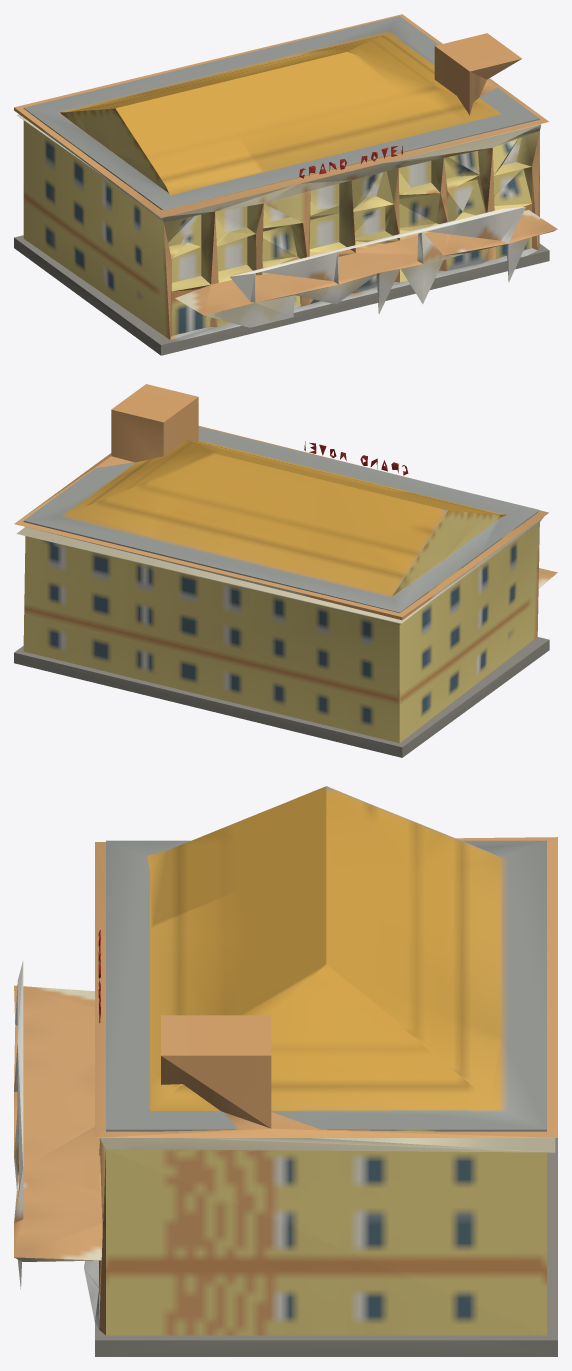
The model's file is khach_san_grand.far.glb.
3 renders of one model, top to bottom at view 1: azimuth 30°, elevation 25°; view 2: azimuth 150°, elevation 25°; view 3: azimuth 270°, elevation 25°, orthographic. The views are drawn at different scales.
Parts seen in each view (by area): view 1: khach_san_grand; view 2: khach_san_grand; view 3: khach_san_grand.
Part boxes in pixels (x1,y1,x2,y2): khach_san_grand: (14,14,557,355); khach_san_grand: (14,384,557,757); khach_san_grand: (14,786,557,1356).
Bounding box in the file's own units: 38.4 × 17.8 × 29.6.
Materials: 4 (4 with a texture image).
